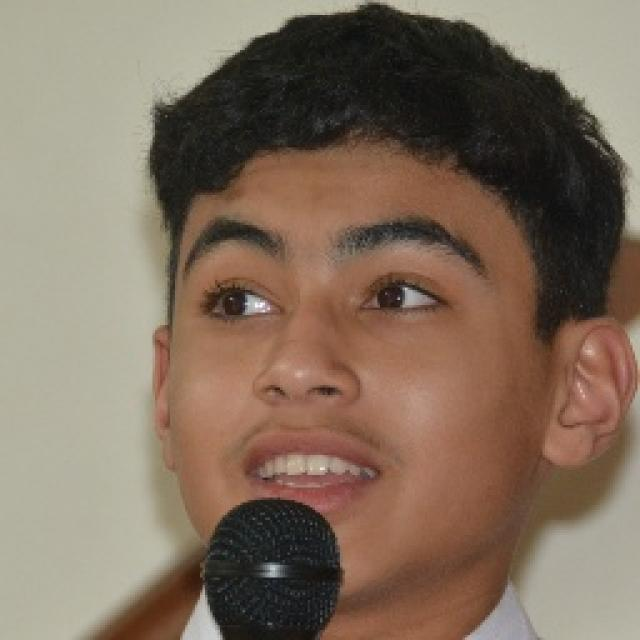earlobe: (542, 318, 638, 471), (152, 322, 177, 471)
